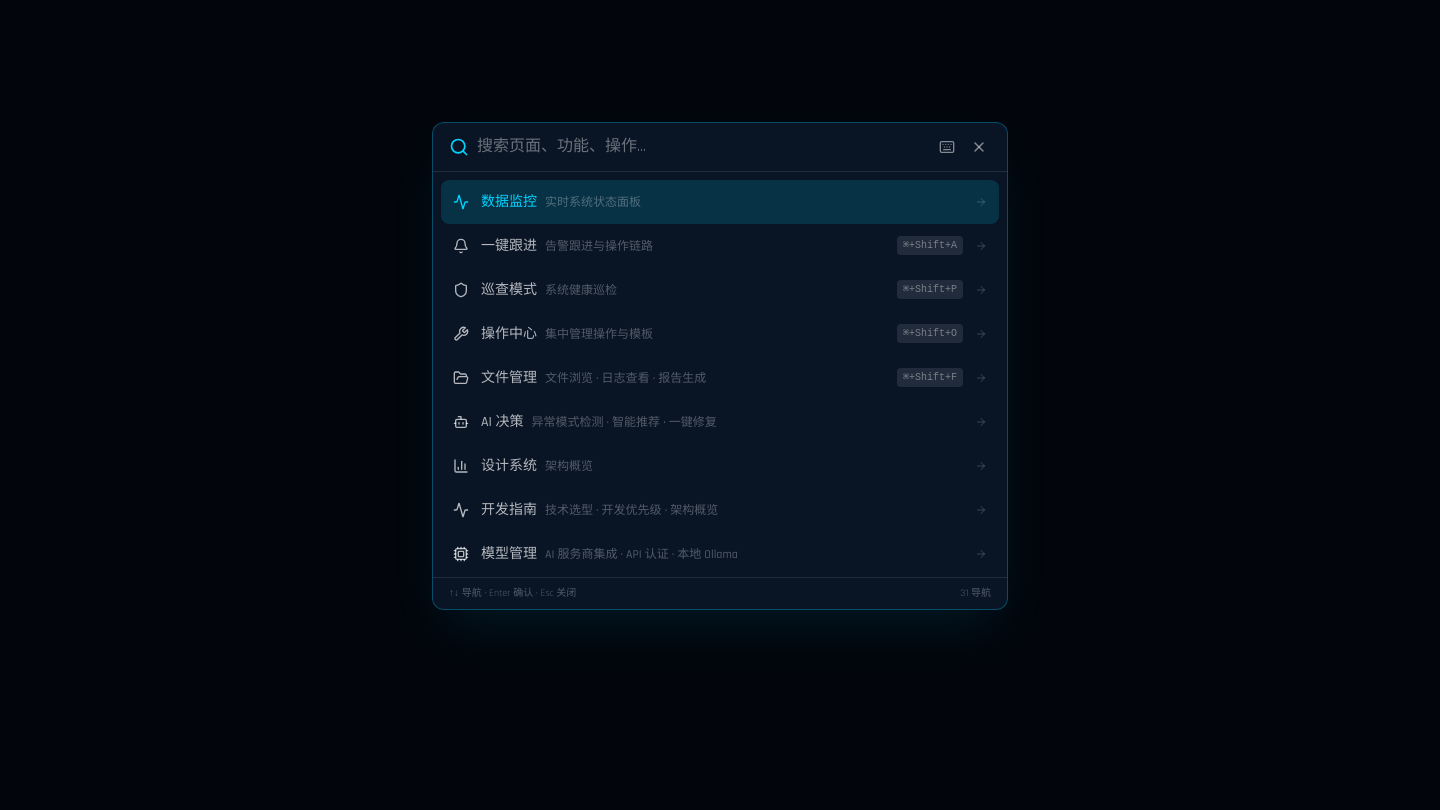
Test: CommandPalette › 搜索筛选 › 输入关键词应筛选结果
Type "操作" into the field with test id "palette-input" at coordinates (702, 146), box x1=477 y1=134 x2=927 y2=158
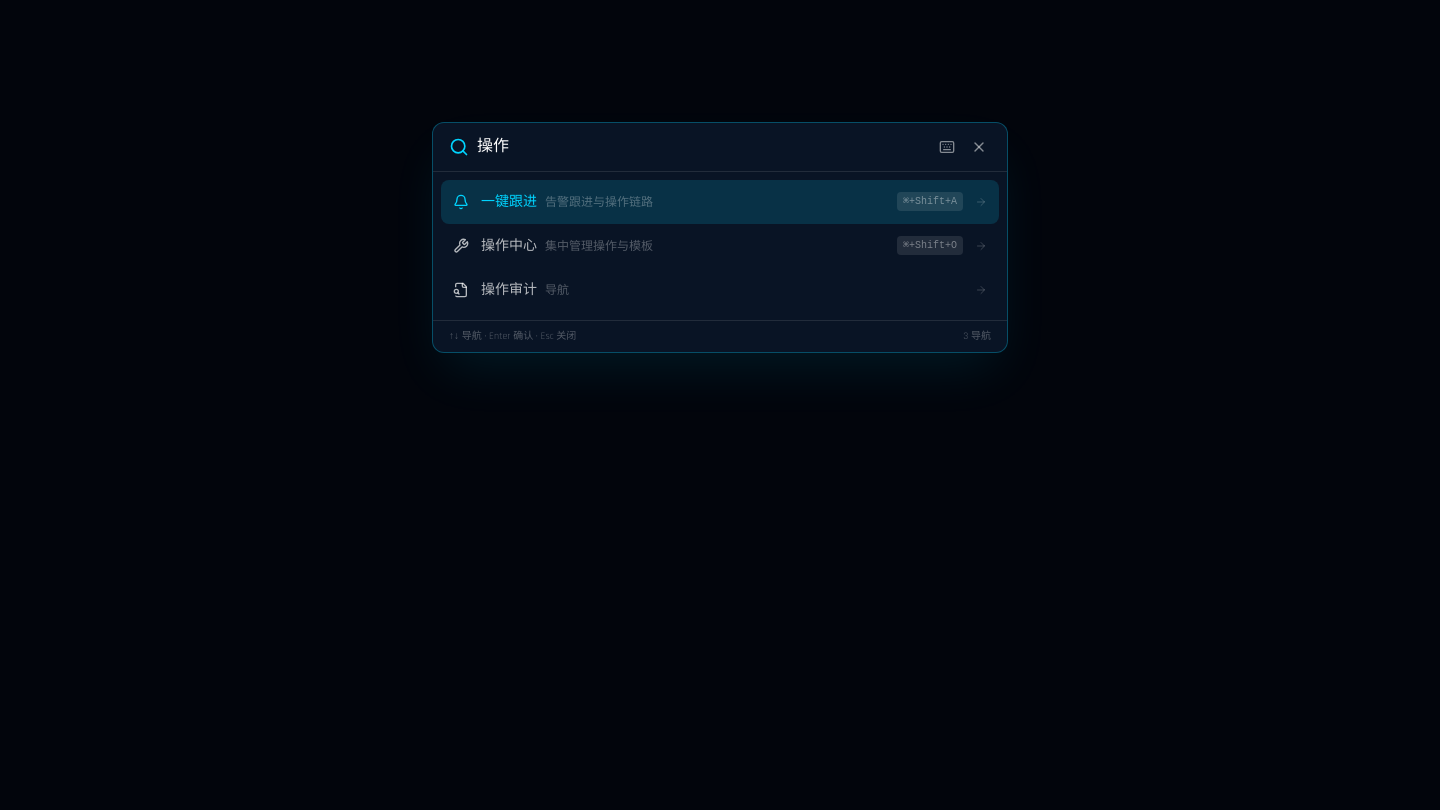
expect the text "操作中心" is shown: met, box x1=481 y1=236 x2=537 y2=254
expect the text "操作审计" is shown: met, box x1=481 y1=280 x2=537 y2=298
